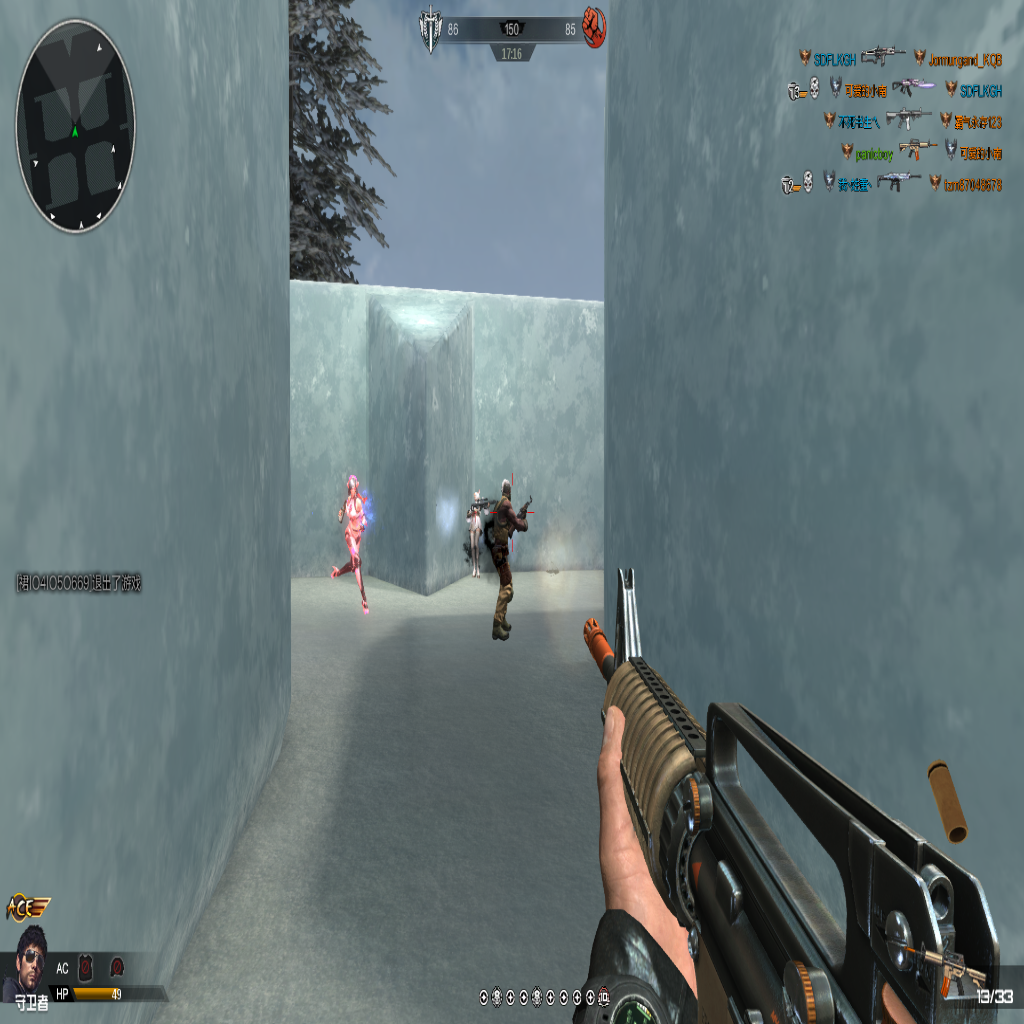tt: (487, 481, 530, 643), (331, 471, 369, 615), (467, 495, 484, 579)
